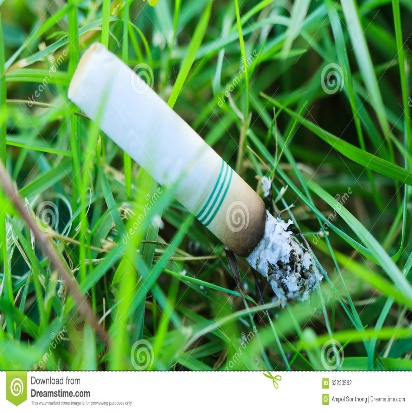cigarette: (64, 43, 327, 297)
